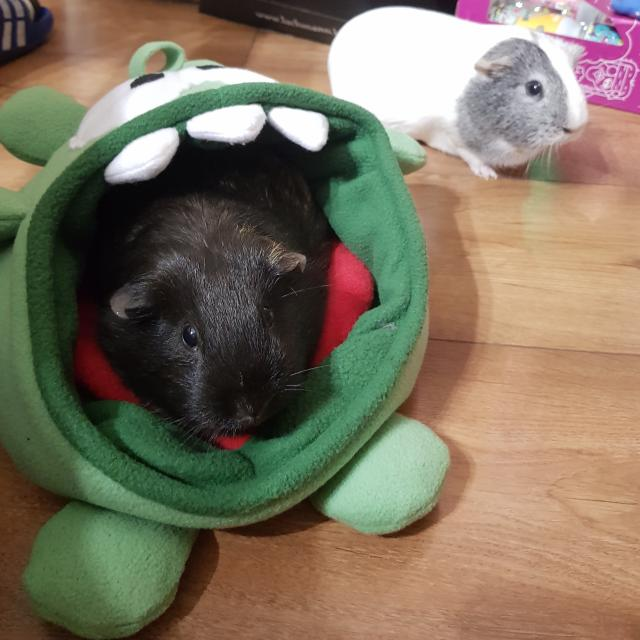guinea pig: (82, 137, 333, 442), (326, 3, 590, 181)
